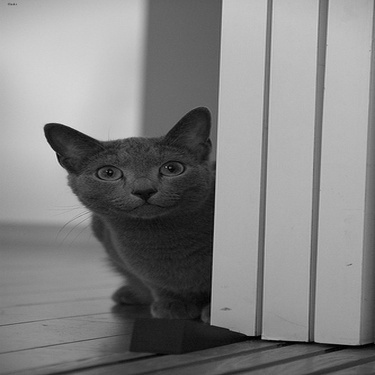cat: (41, 104, 215, 325)
